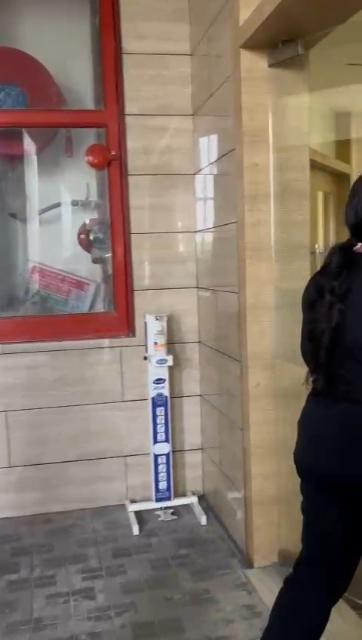floor: (3, 507, 266, 636)
moving-obj: (284, 172, 362, 640)
wall: (126, 12, 246, 318), (0, 356, 136, 506), (179, 330, 268, 492)
